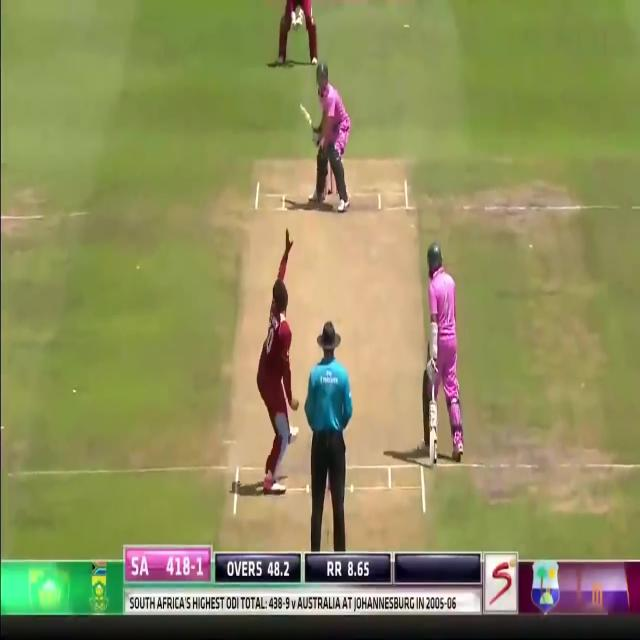Ball: (426, 246, 461, 462), (311, 62, 352, 210)
Fielder: (255, 224, 295, 490), (275, 0, 320, 62)
Umpire: (306, 321, 352, 545)
